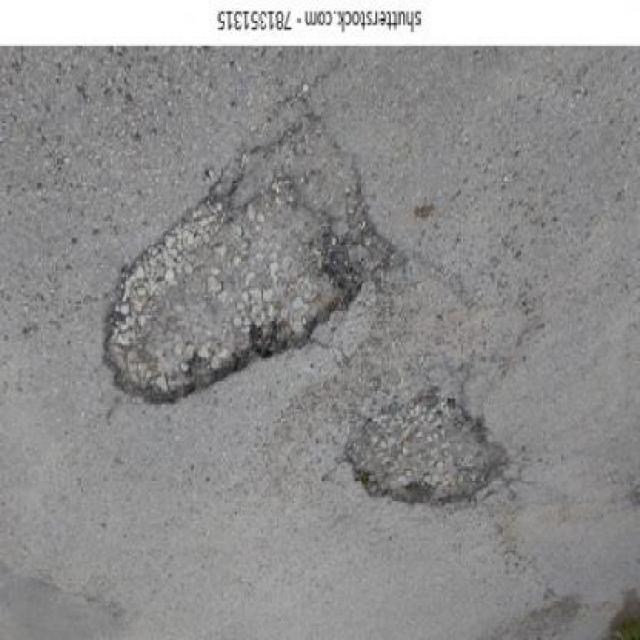Pothole: (98, 143, 382, 410), (339, 385, 522, 513)
